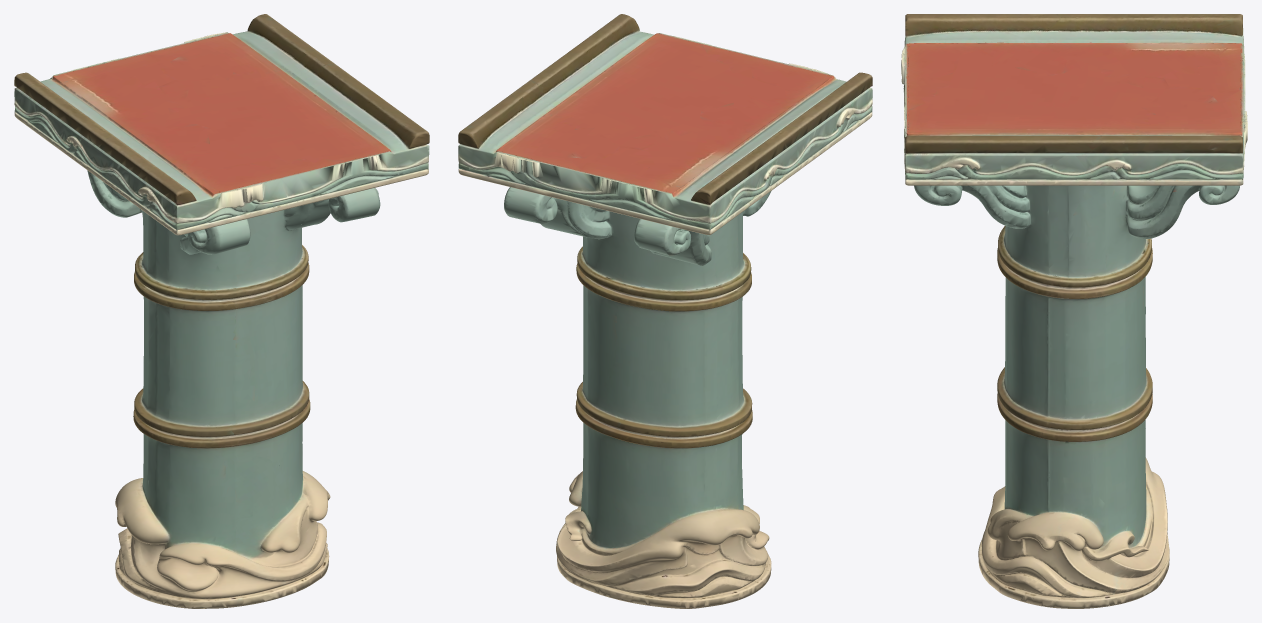
The model's file is act1_exit_bridge_rodin.glb.
The picture shows the model from 3 angles, left to right: view 1: azimuth 30°, elevation 25°; view 2: azimuth 150°, elevation 25°; view 3: azimuth 270°, elevation 25°; orthographic projection. The views are drawn at different scales.
Visible parts, largest first — view 1: SM_Act1_ExitBridgeRodin; view 2: SM_Act1_ExitBridgeRodin; view 3: SM_Act1_ExitBridgeRodin.
Part boxes in pixels (bbox=[...]): SM_Act1_ExitBridgeRodin: bbox=[14, 14, 429, 608]; SM_Act1_ExitBridgeRodin: bbox=[458, 14, 872, 608]; SM_Act1_ExitBridgeRodin: bbox=[901, 14, 1247, 608].
Size of the model in its own units: 1.76 by 3.02 by 1.96.
Materials: 1 (1 with a texture image).
